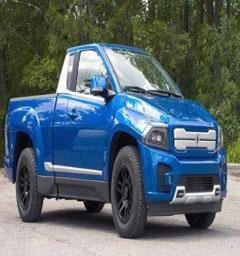car: (3, 27, 232, 236)
